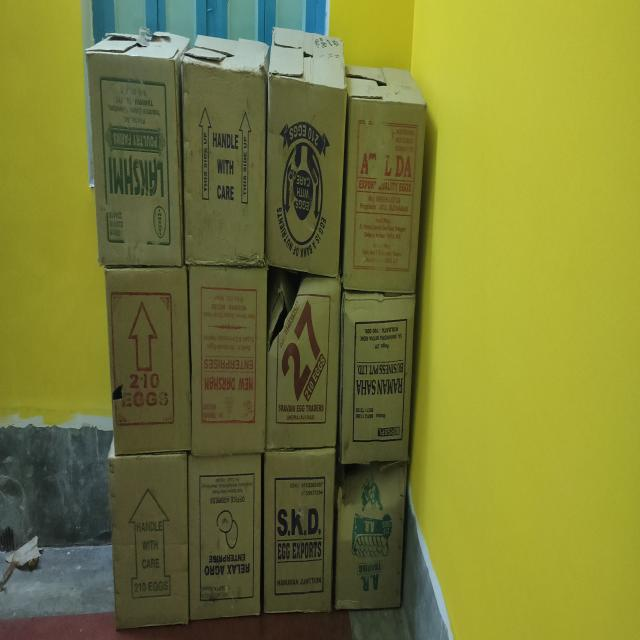squeeze: (258, 253, 306, 361), (337, 458, 404, 534)
